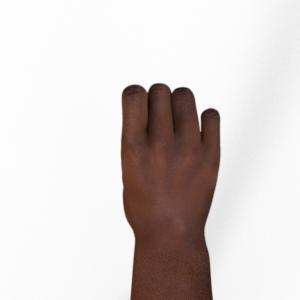rock: (121, 84, 219, 300)
